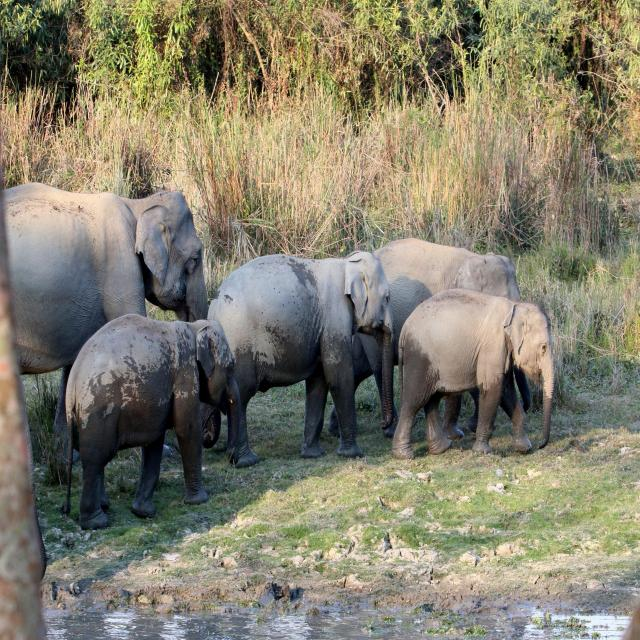Elephant: (0, 183, 208, 521), (211, 194, 391, 469), (62, 315, 242, 524), (394, 289, 554, 461)
